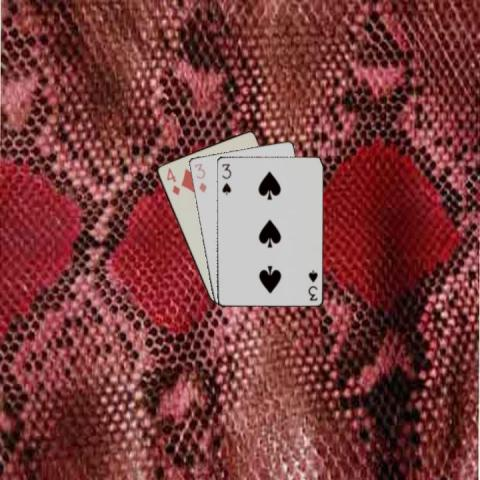3d: (191, 160, 208, 194)
3s: (305, 267, 319, 301), (219, 161, 232, 196)
4d: (163, 164, 181, 196)
